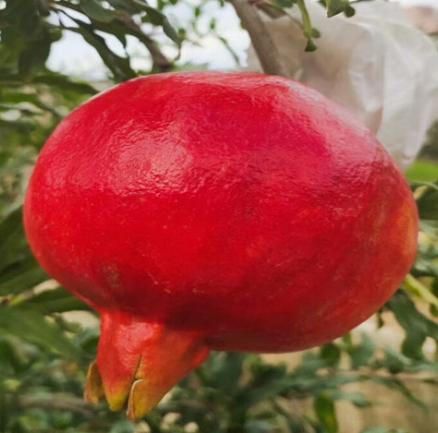pomegranate_A: (23, 70, 421, 426)
